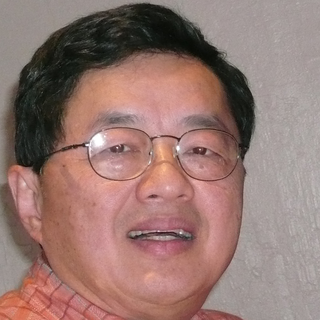eye: (97, 135, 142, 161), (179, 140, 224, 165)
